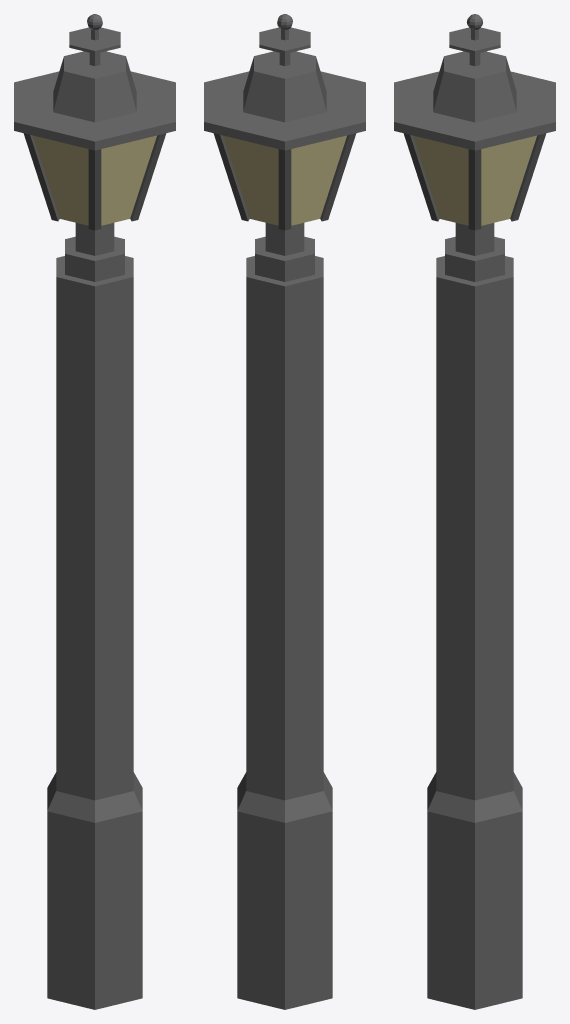
The model's file is Lamp-Post.fbx.
The picture shows the model from 3 angles, left to right: view 1: azimuth 30°, elevation 25°; view 2: azimuth 150°, elevation 25°; view 3: azimuth 270°, elevation 25°; orthographic projection.
Parts seen in each view (by area): view 1: Lamp_Post1; view 2: Lamp_Post1; view 3: Lamp_Post1.
Boxes of the visible parts, x1=… form: Lamp_Post1: x1=14, y1=14, x2=175, y2=1009; Lamp_Post1: x1=204, y1=14, x2=365, y2=1009; Lamp_Post1: x1=394, y1=14, x2=555, y2=1009.
Bounding box in the file's own units: 0.3015 × 1.73 × 0.2611.
